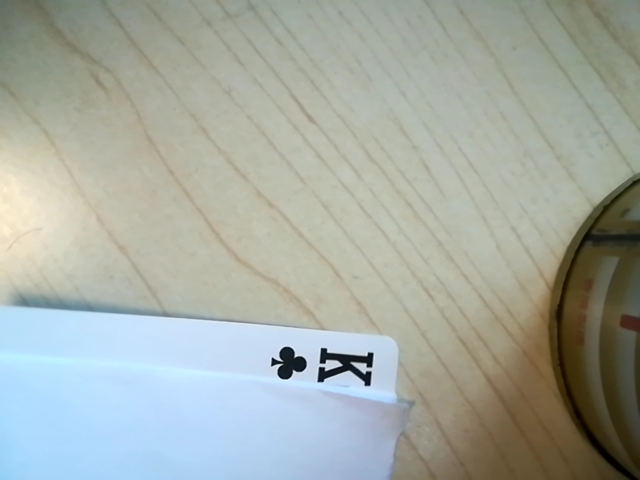mh k: (255, 335, 396, 400)
